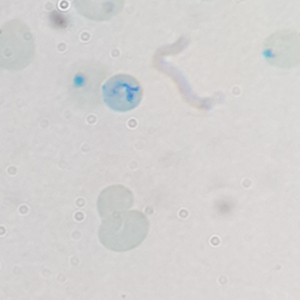aggregate reticulocyte: (99, 71, 145, 115)
erythrocyte: (96, 209, 151, 254), (1, 18, 39, 73), (94, 183, 135, 223)
